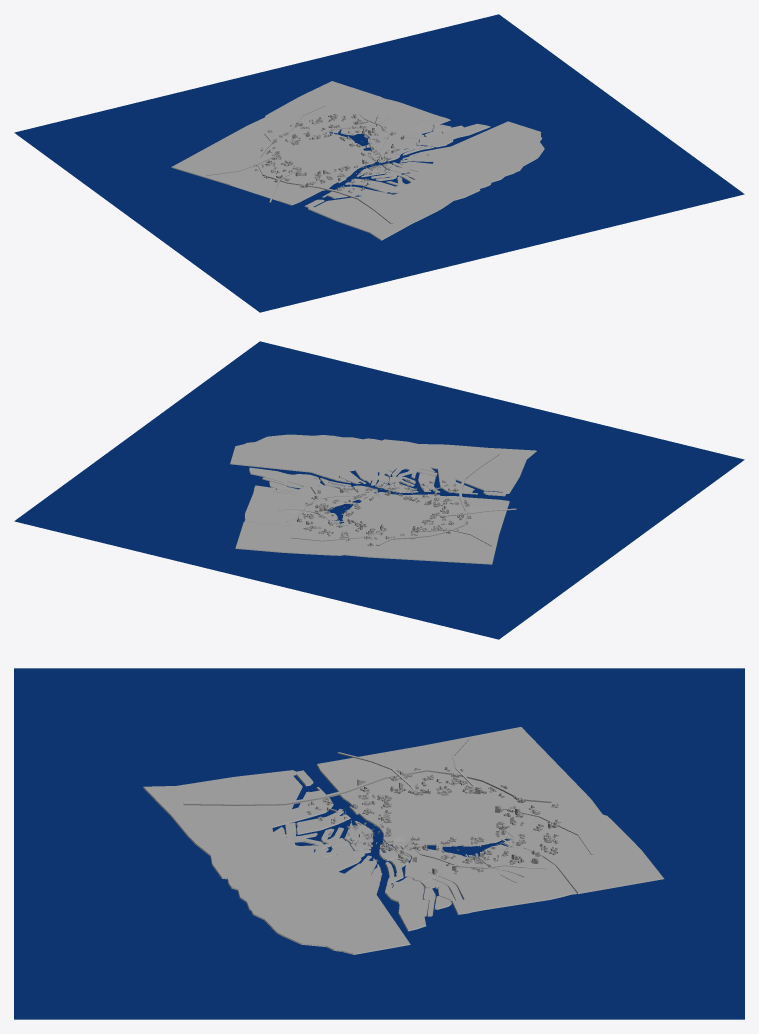
Rendered from hamburg_plane.fbx.
3 renders of one model, top to bottom at view 1: azimuth 30°, elevation 25°; view 2: azimuth 150°, elevation 25°; view 3: azimuth 270°, elevation 25°, orthographic. The views are drawn at different scales.
Visible parts, largest first — view 1: hamburg_plane; view 2: hamburg_plane; view 3: hamburg_plane.
Part boxes in pixels (x1,y1,x2,y2): hamburg_plane: [14, 14, 744, 312]; hamburg_plane: [14, 341, 744, 639]; hamburg_plane: [14, 668, 744, 1019].
Bounding box in the file's own units: 120 × 2.02 × 106.
